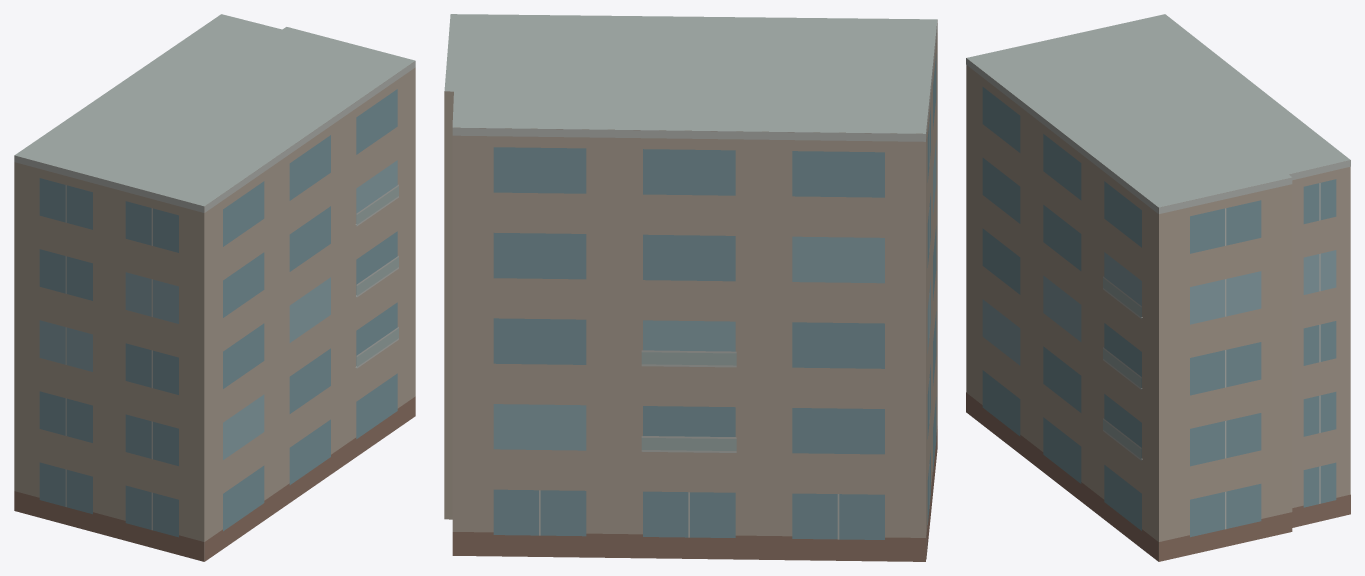
File: survey-upis-33013791.glb
The picture shows the model from 3 angles, left to right: view 1: azimuth 30°, elevation 25°; view 2: azimuth 150°, elevation 25°; view 3: azimuth 270°, elevation 25°; orthographic projection. The views are drawn at different scales.
Visible parts, largest first — view 1: survey-upis-33013791.tmp; view 2: survey-upis-33013791.tmp; view 3: survey-upis-33013791.tmp.
Part boxes in pixels (x1,y1,x2,y2): survey-upis-33013791.tmp: (14,14,415,561); survey-upis-33013791.tmp: (444,14,937,561); survey-upis-33013791.tmp: (966,14,1350,561).
Size of the model in its own units: 15.24 by 13 by 12.8.
